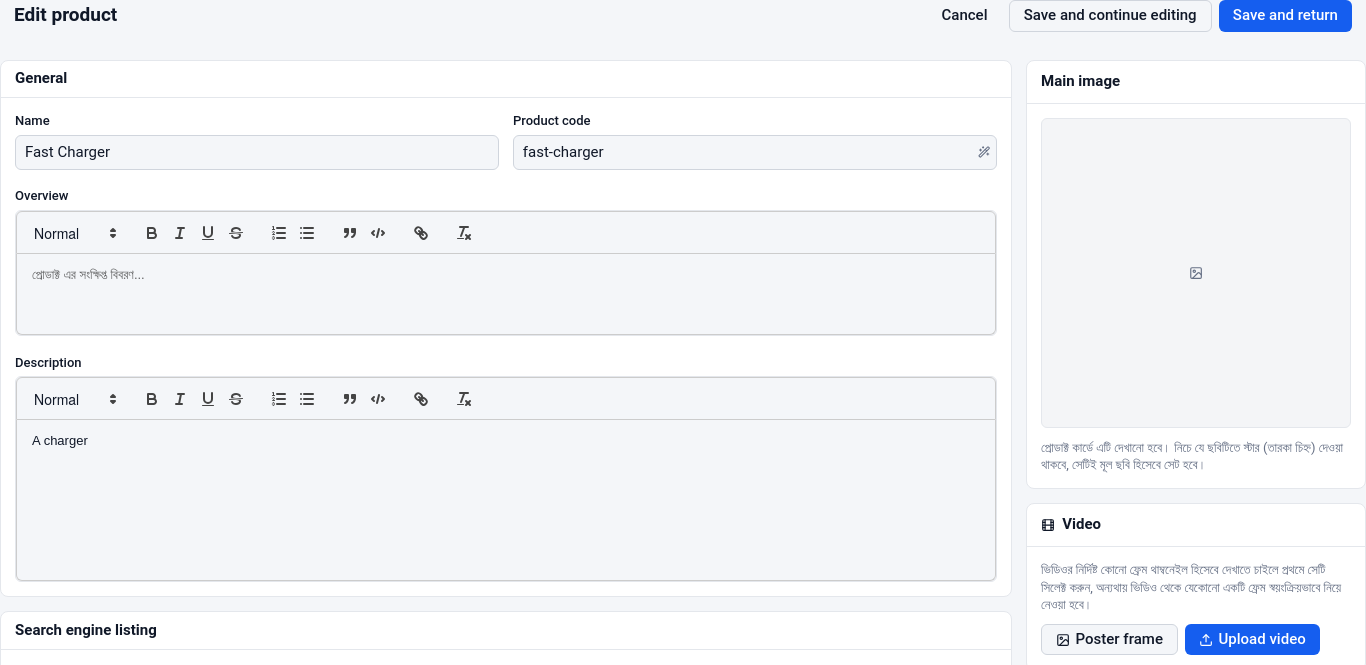
Scenario: ProductFormPage › the destructive-save guards › refuses a save that would delete images the form never loaded
The image size is (1366, 665).
Click the button "Save and continue editing" at (1110, 16), box [1009,0,1212,32]
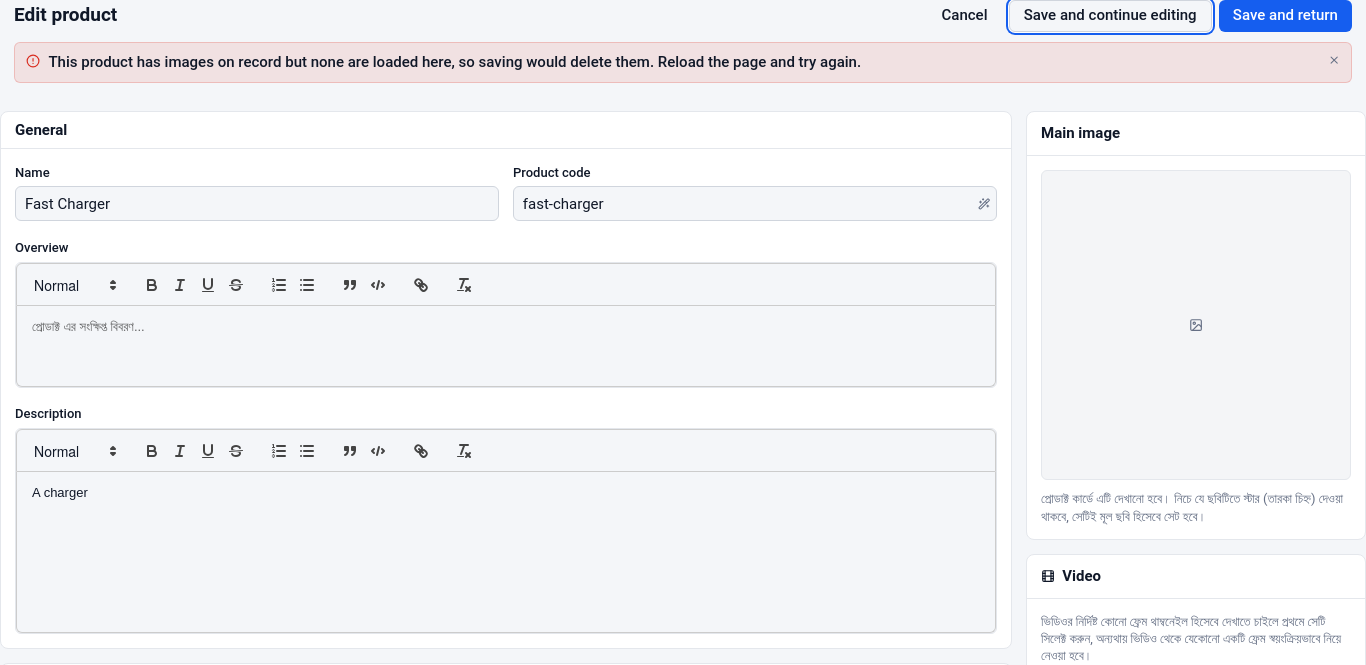
Expected: the message shows "saving would delete them", [48,53,861,71]
